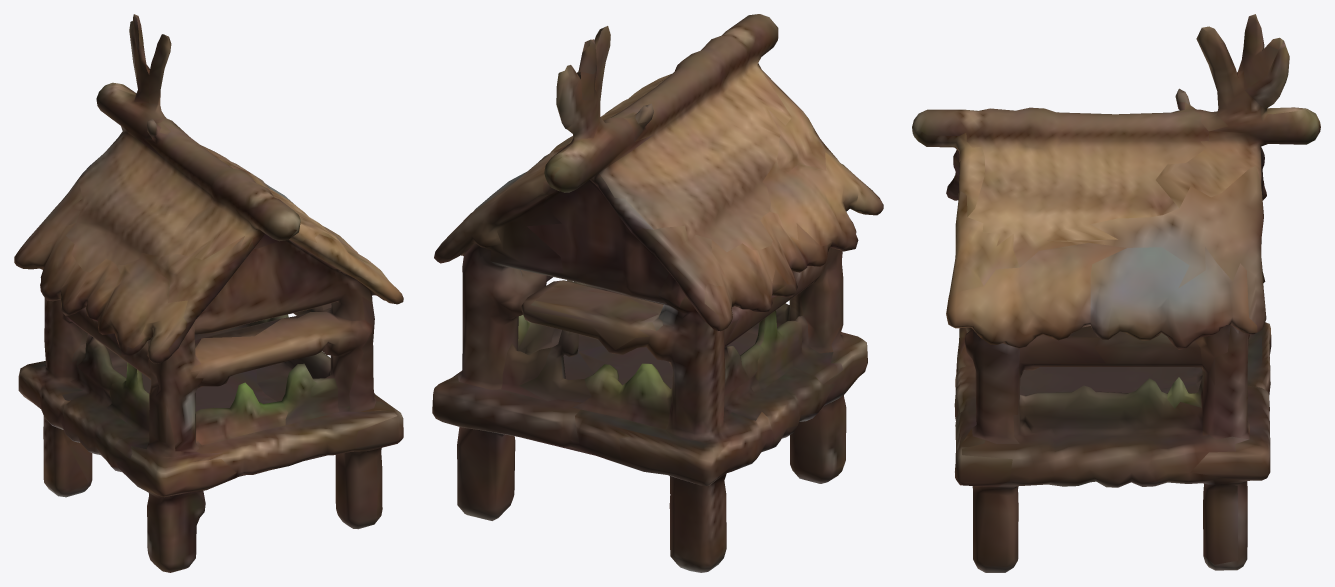
Rendered from s12_cabana_palafita.glb.
3 renders of one model, left to right at view 1: azimuth 30°, elevation 25°; view 2: azimuth 150°, elevation 25°; view 3: azimuth 270°, elevation 25°, orthographic. The views are drawn at different scales.
Visible parts, largest first — view 1: s12_cabana_palafita; view 2: s12_cabana_palafita; view 3: s12_cabana_palafita.
Part boxes in pixels (x1,y1,x2,y2): s12_cabana_palafita: (14,14,403,572); s12_cabana_palafita: (432,14,883,572); s12_cabana_palafita: (912,14,1320,572).
Size of the model in its own units: 0.8292 by 1.34 by 0.9948.
1 material, 1 textured.
